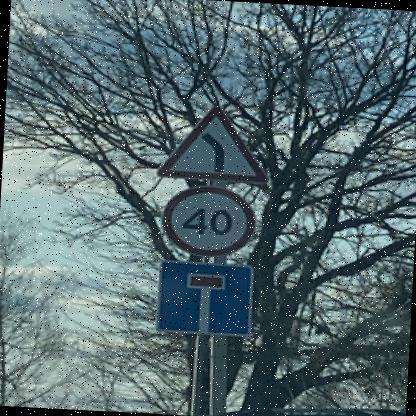speedlimit: (158, 182, 255, 257)
